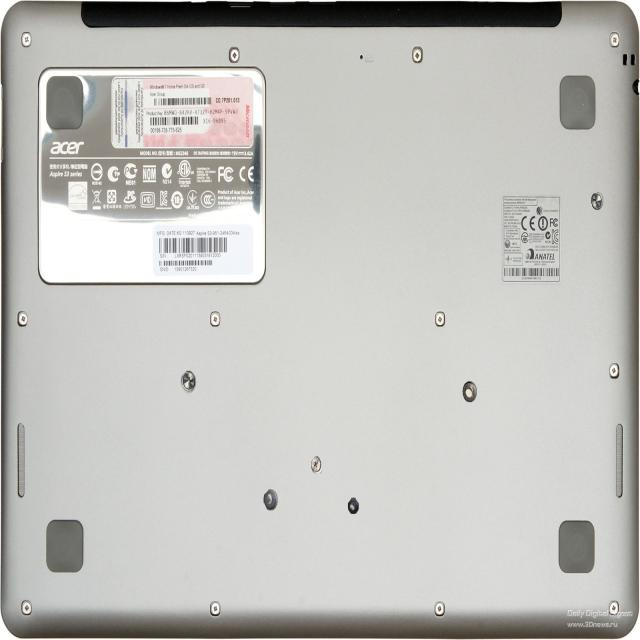lock: (180, 370, 196, 393), (591, 191, 604, 210), (310, 455, 323, 474)
missing_screw: (263, 489, 278, 510), (462, 381, 477, 402), (348, 497, 359, 514)
